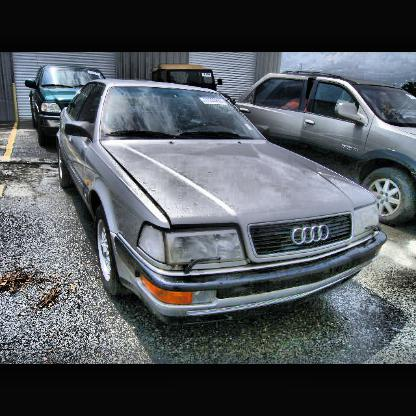Audi V8 Sedan 1994: (56, 81, 391, 319)
